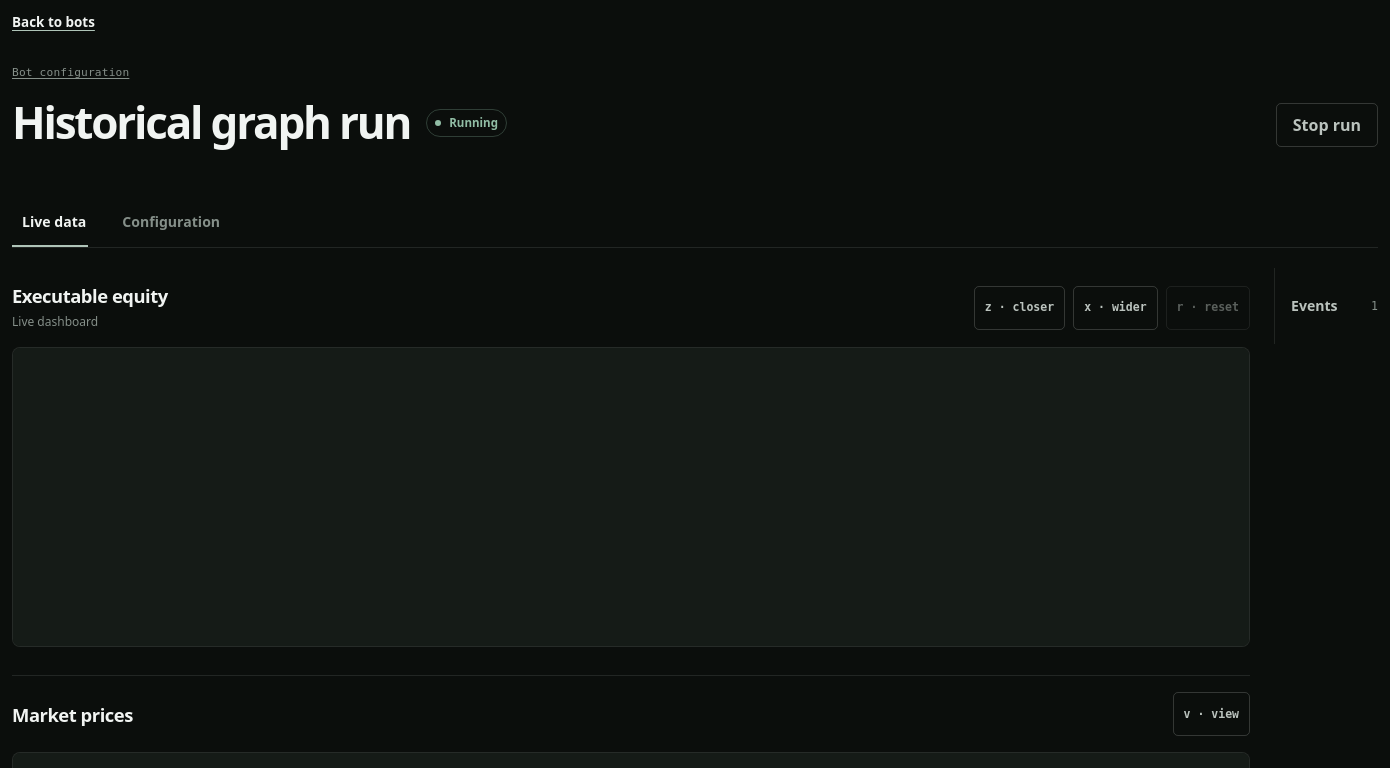
it: run detail interactions › requests diagnostics from the backend and keeps the old feed if switching fails
Click the button with aria-label "Show events": x=1314, y=306 [1291,284,1338,328]
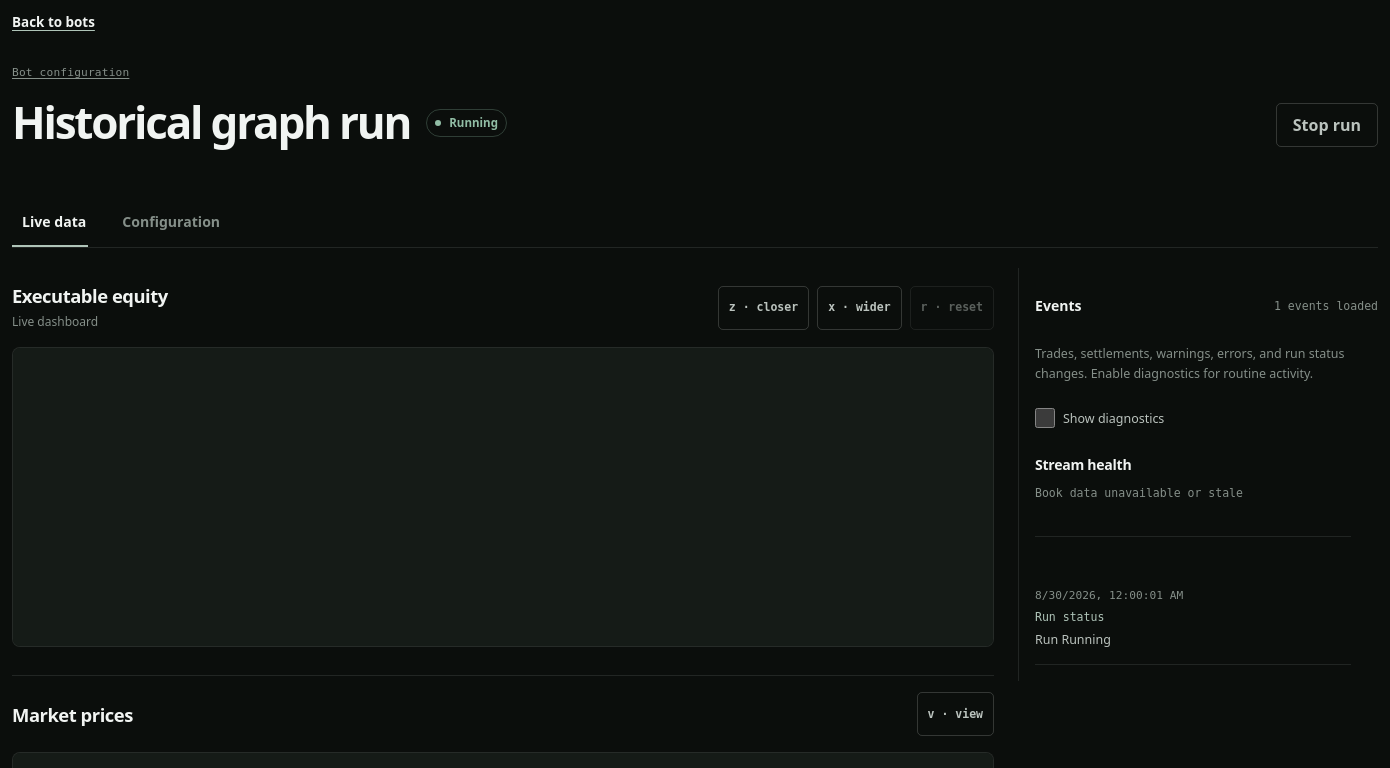
Click the checkbox labelled "Show diagnostics": x=1045, y=418 [1035,408,1055,428]
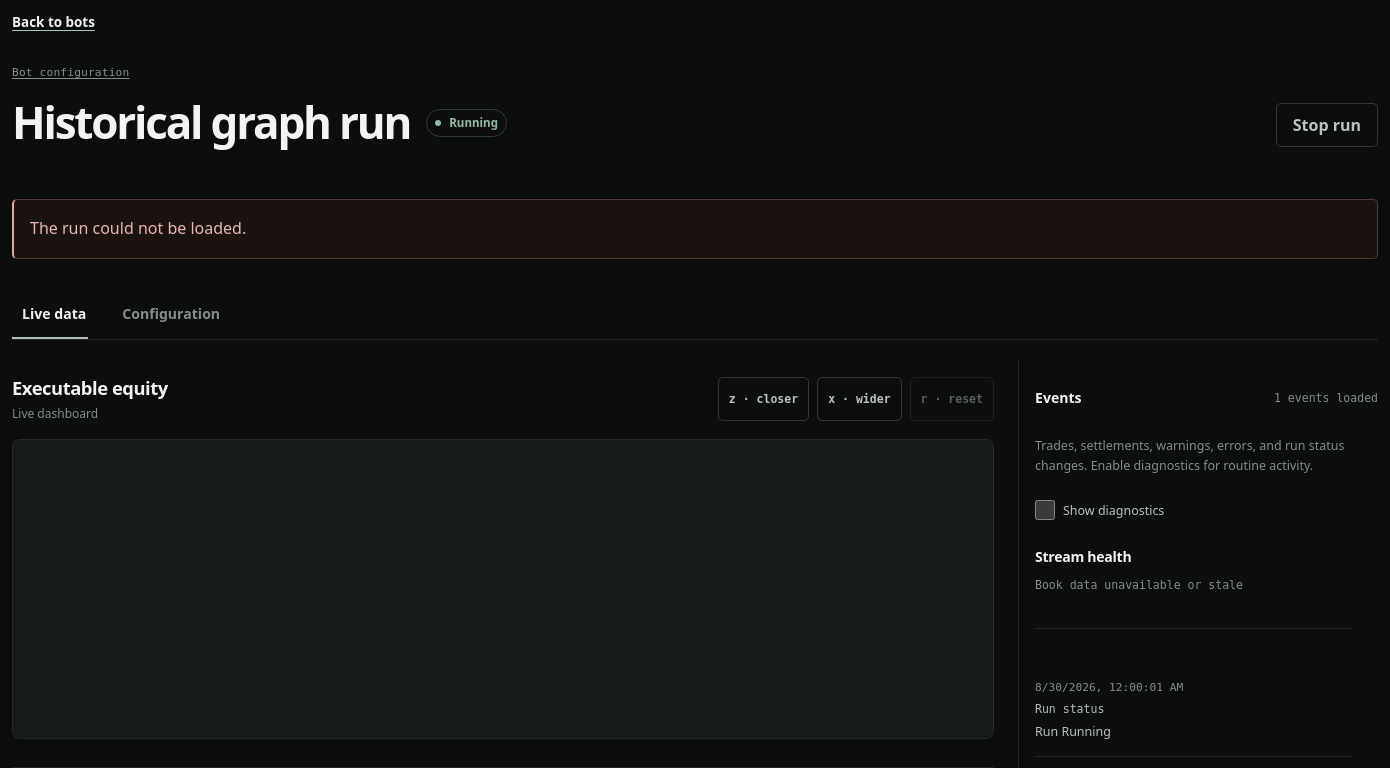
Expected: the text "The run could not be loaded." is shown, [12,199,1378,259]
Click the checkbox labelled "Show diagnostics": x=1045, y=510 [1035,500,1055,520]
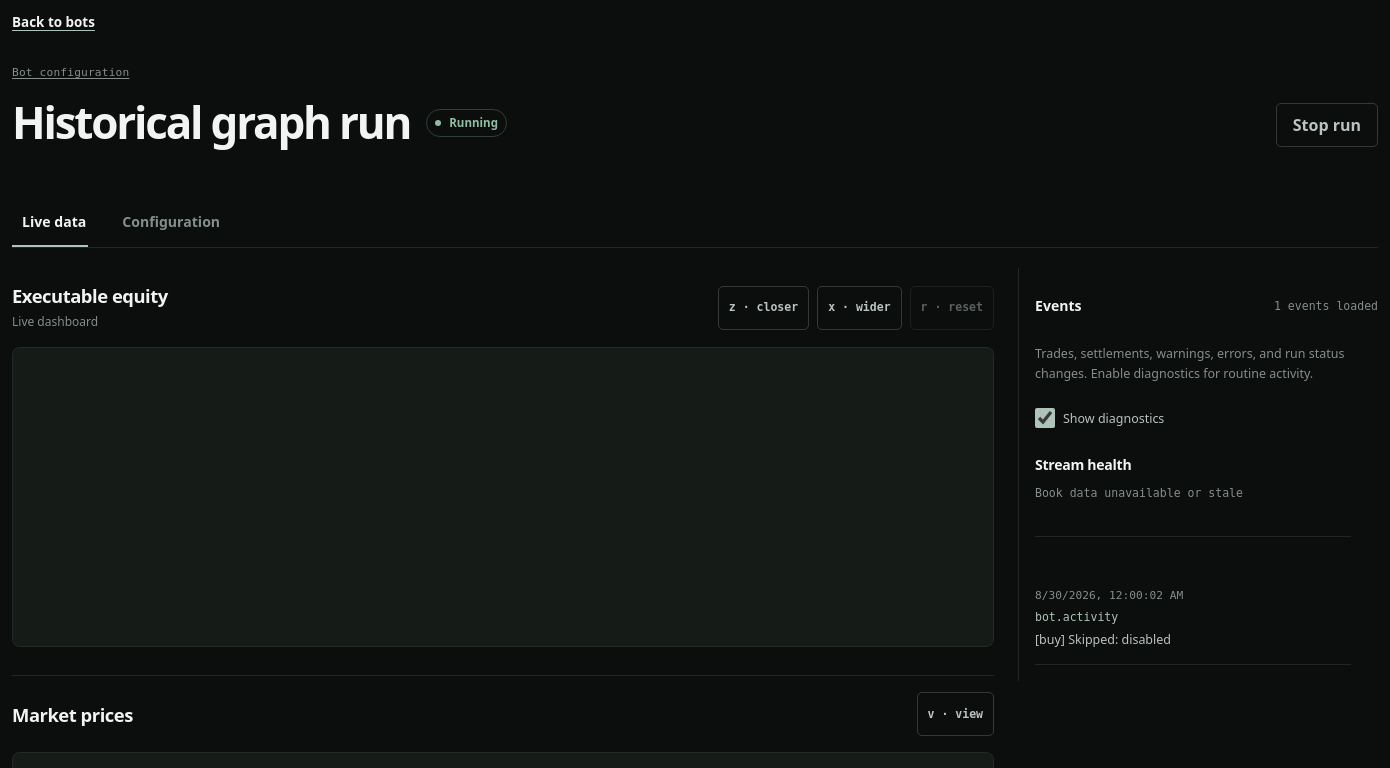
Expected: the text "[buy] Skipped: disabled" is shown, [1035,631,1351,648]
